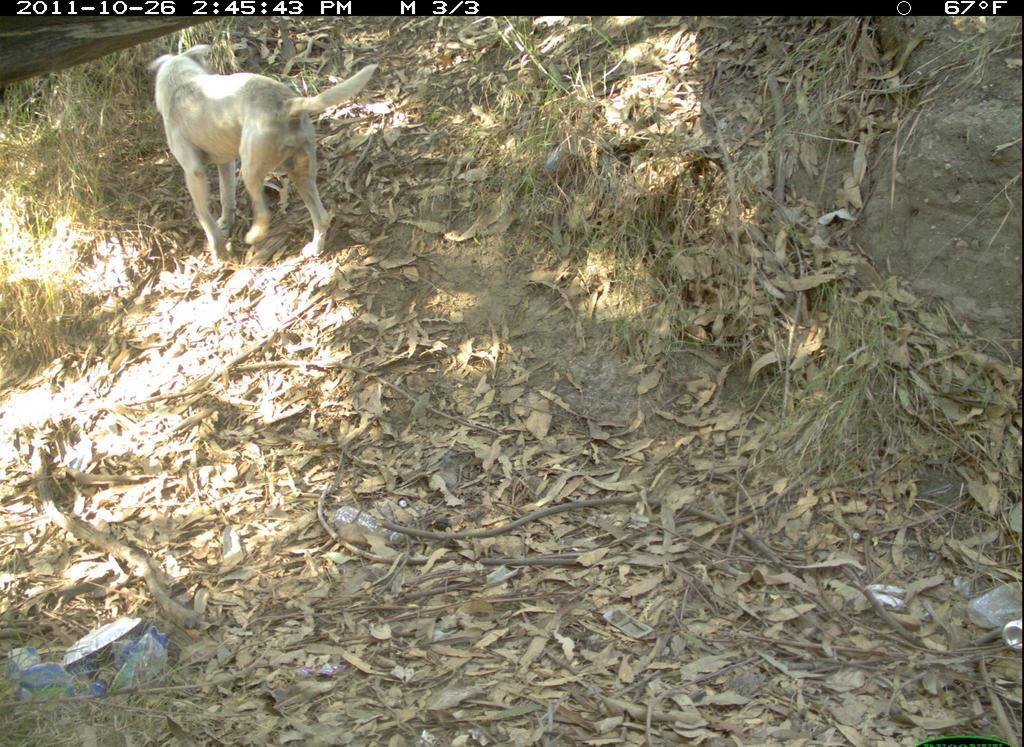dog: (146, 39, 388, 282)
